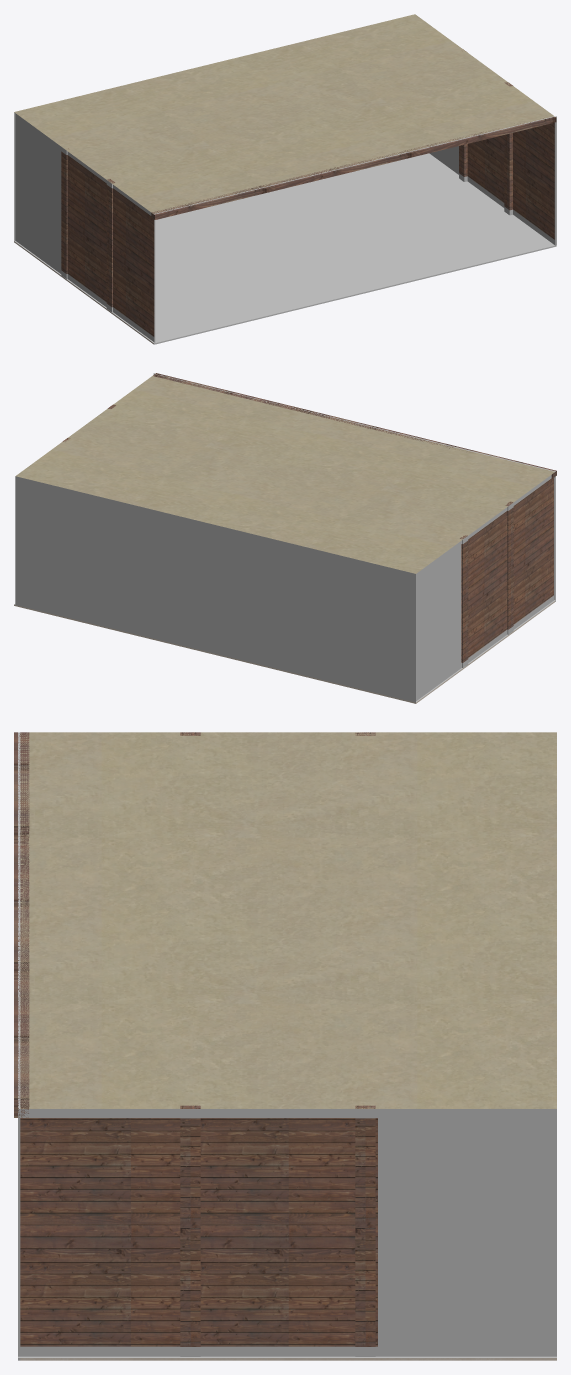
The model's file is ms_tri_b_2q_in04.fbx.
3 views of the same model, one above another, from view 1: azimuth 30°, elevation 25°; view 2: azimuth 150°, elevation 25°; view 3: azimuth 270°, elevation 25° (orthographic). The views are drawn at different scales.
Parts seen in each view (by area): view 1: ms_tri_b_2q_in04; view 2: ms_tri_b_2q_in04; view 3: ms_tri_b_2q_in04.
Boxes of the visible parts, <box> form: ms_tri_b_2q_in04: <box>14,14,556,344</box>; ms_tri_b_2q_in04: <box>14,373,556,703</box>; ms_tri_b_2q_in04: <box>14,732,556,1360</box>.
Size of the model in its own units: 10.91 by 3.37 by 6.62.
